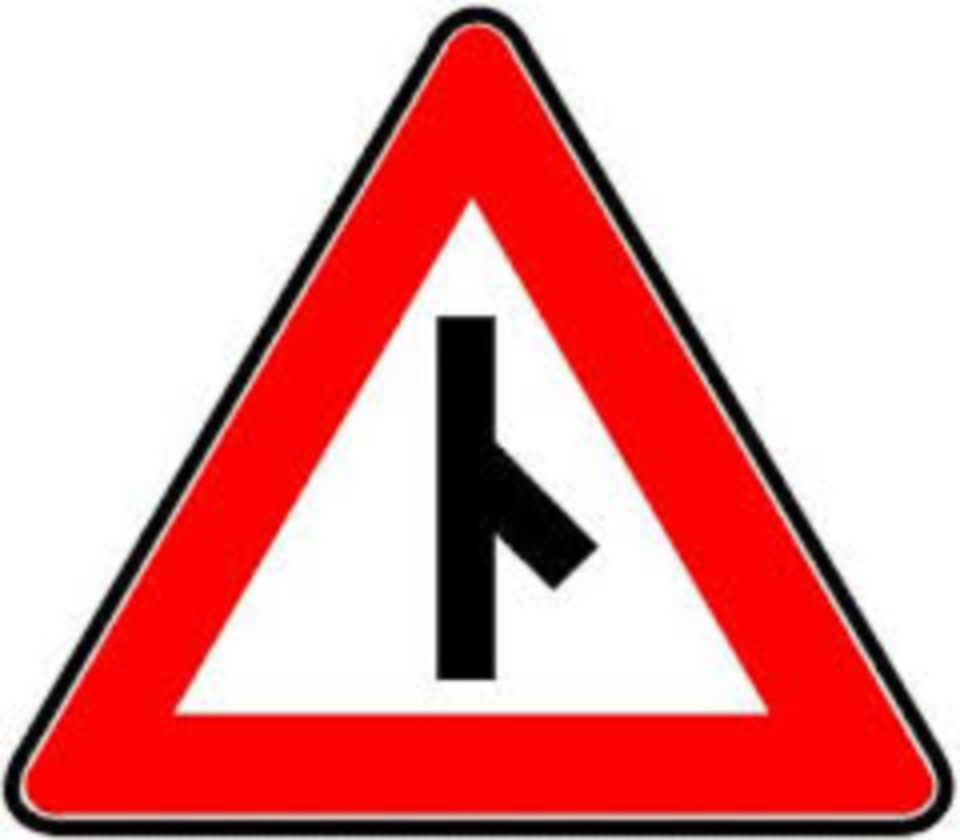Fork_road: (3, 3, 955, 840)
